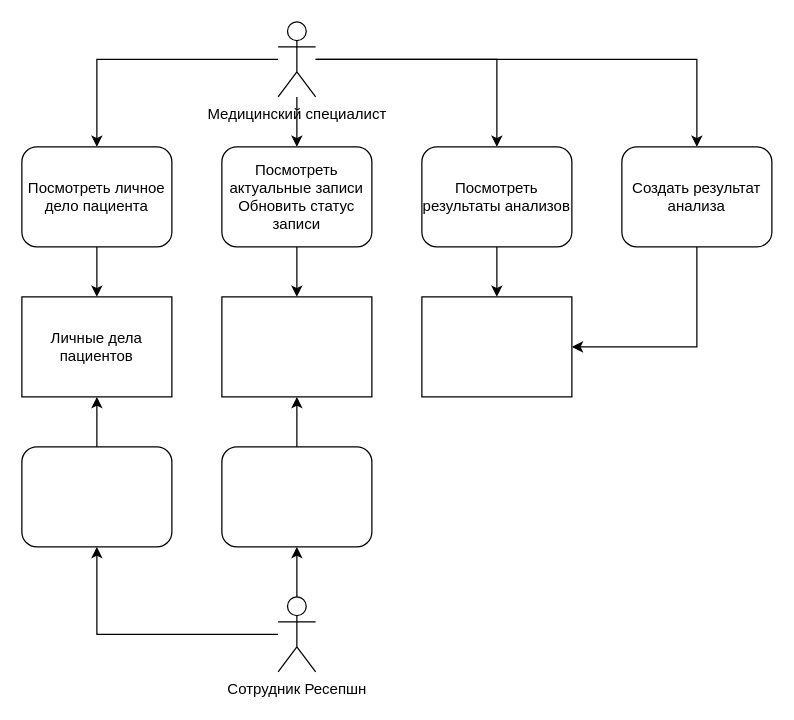
Image size: 794x720. Some labels were removed from this diagram. Each missing label, with the centre of its shape:
"Журнал приемов" goes at (296,346).
"Результаты анализов" goes at (496,346).
"Создать запись на прием" goes at (296,496).
"Создать новое личное дело" goes at (96,496).
